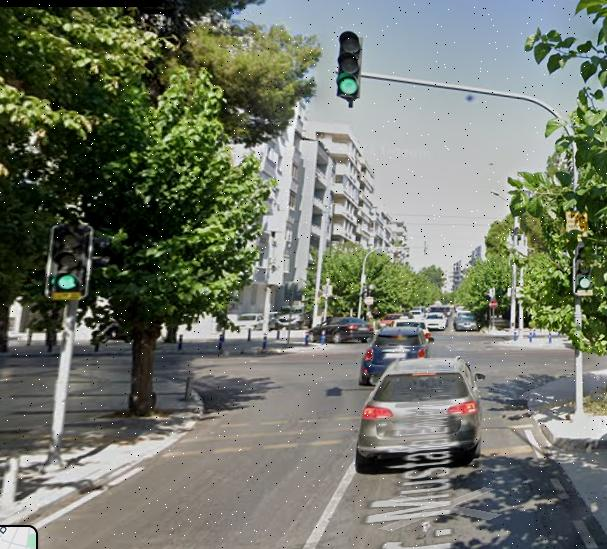greenlight: (50, 223, 89, 302), (338, 30, 361, 105), (571, 247, 596, 302)
